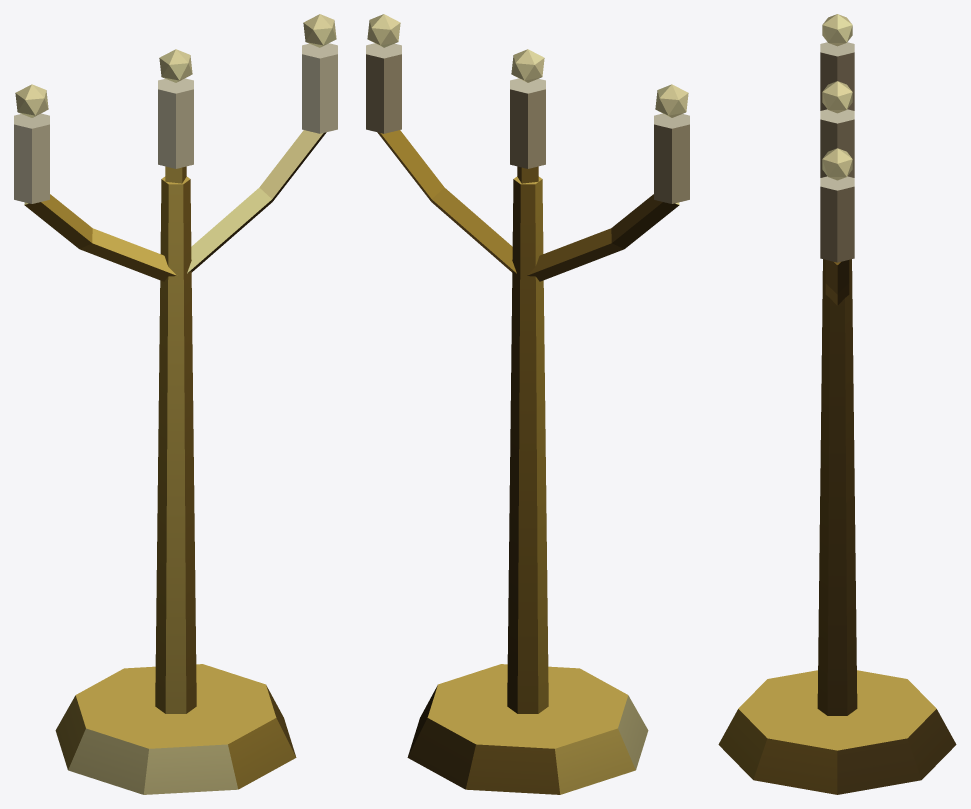
Rendered from candle_stand.glb.
3 views of the same model, side by side, from view 1: azimuth 30°, elevation 25°; view 2: azimuth 150°, elevation 25°; view 3: azimuth 270°, elevation 25° (orthographic). The views are drawn at different scales.
Parts seen in each view (by area): view 1: candle_stand; view 2: candle_stand; view 3: candle_stand.
Part boxes in pixels (box(x1,y1,x2,y2)): candle_stand: box(14, 14, 337, 794); candle_stand: box(366, 14, 689, 794); candle_stand: box(718, 14, 956, 794).
Size of the model in its own units: 0.36 by 0.738 by 0.24.
